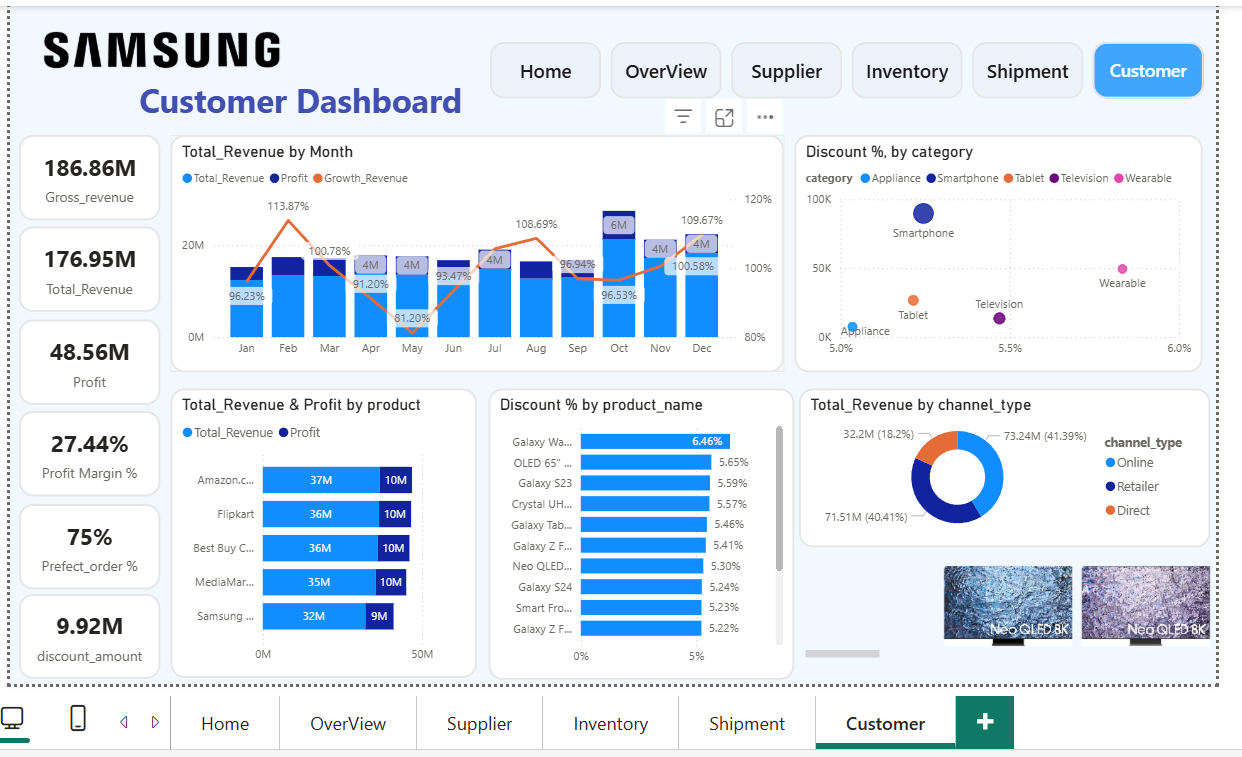

What the dashboard file says about the page in this screenshot:
{"tool":"powerbi","page":{"name":"Customer","canvas":[1280,720],"ordinal":5},"visuals":[{"type":"card","fields":{"Values":["Sum(fact_sales.gross_revenue)"]},"box":[9.6,137,149.7,90.8],"z":0},{"type":"card","fields":{"Values":["MeasuresTable.Total_Revenue"]},"box":[9.6,234.2,149.7,90.8],"z":1000},{"type":"card","fields":{"Values":["MeasuresTable.Profit Margin %"]},"box":[9.6,430.1,149.7,90.8],"z":2000},{"type":"card","fields":{"Values":["MeasuresTable.Profit"]},"box":[9.6,332.9,149.7,90.8],"z":3000},{"type":"card","fields":{"Values":["MeasuresTable.Prefect_order %"]},"box":[9.6,528.8,149.7,90.8],"z":4000},{"type":"card","fields":{"Values":["Sum(fact_sales.discount_amount)"]},"box":[9.6,624.4,150,90],"z":5000},{"type":"barChart","title":"Total_Revenue & Profit by product","fields":{"Category":["dim_customer.customer_name"],"Y":["MeasuresTable.Total_Revenue","MeasuresTable.Profit"]},"box":[170.4,406.2,325,307.4],"z":6000},{"type":"donutChart","fields":{"Category":["dim_customer.channel_type"],"Y":["MeasuresTable.Total_Revenue"]},"box":[837.9,406.2,436.5,168.8],"z":7000},{"type":"lineStackedColumnComboChart","title":"Total_Revenue by Month","fields":{"Category":["dim_date.Month_Short"],"Y":["MeasuresTable.Total_Revenue","MeasuresTable.Profit"],"Y2":["MeasuresTable.Growth_Revenue"]},"box":[170.4,137,651.5,251.7],"z":8000},{"type":"scatterChart","title":"Discount %,  by category","fields":{"X":["MeasuresTable.Discount %"],"Y":["Sum(fact_sales.quantity_sold)"],"Series":["dim_product.category"],"Size":["MeasuresTable.Total_Revenue"]},"box":[833.1,137,433.3,251.7],"z":9000},{"type":"clusteredBarChart","fields":{"Category":["dim_product.product_name"],"Y":["MeasuresTable.Discount %"]},"box":[508.1,406.2,325,309],"z":10000},{"type":"advancedSlicerVisual","fields":{"Values":["dim_product.product_name"]},"box":[839.5,587.8,441.2,111.5],"z":11000},{"type":"pageNavigator","box":[509.7,38.2,761.4,60.5],"z":12000},{"type":"image","box":[15.9,6.4,278.8,79.6],"z":13000},{"type":"textbox","title":"Customer Dashboard","box":[132.2,76.5,360,54.2],"z":14000}]}

Visuals, with their boxes on the page's 1280x720 design canvas (x1, y1, x2, y2). These are canvas units, not pixel positions in the 1242x757 screenshot, which may show the page scaled, cropped or inside an application window:
card - Sum(fact_sales.gross_revenue): {"x1": 10, "y1": 137, "x2": 159, "y2": 228}
card - MeasuresTable.Total_Revenue: {"x1": 10, "y1": 234, "x2": 159, "y2": 325}
card - MeasuresTable.Profit Margin %: {"x1": 10, "y1": 430, "x2": 159, "y2": 521}
card - MeasuresTable.Profit: {"x1": 10, "y1": 333, "x2": 159, "y2": 424}
card - MeasuresTable.Prefect_order %: {"x1": 10, "y1": 529, "x2": 159, "y2": 620}
card - Sum(fact_sales.discount_amount): {"x1": 10, "y1": 624, "x2": 160, "y2": 714}
"Total_Revenue & Profit by product" barChart: {"x1": 170, "y1": 406, "x2": 495, "y2": 714}
donutChart - dim_customer.channel_type x MeasuresTable.Total_Revenue: {"x1": 838, "y1": 406, "x2": 1274, "y2": 575}
"Total_Revenue by Month" lineStackedColumnComboChart: {"x1": 170, "y1": 137, "x2": 822, "y2": 389}
"Discount %,  by category" scatterChart: {"x1": 833, "y1": 137, "x2": 1266, "y2": 389}
clusteredBarChart - dim_product.product_name x MeasuresTable.Discount %: {"x1": 508, "y1": 406, "x2": 833, "y2": 715}
advancedSlicerVisual - dim_product.product_name: {"x1": 840, "y1": 588, "x2": 1281, "y2": 699}
pageNavigator: {"x1": 510, "y1": 38, "x2": 1271, "y2": 99}
image: {"x1": 16, "y1": 6, "x2": 295, "y2": 86}
"Customer Dashboard" textbox: {"x1": 132, "y1": 76, "x2": 492, "y2": 131}
